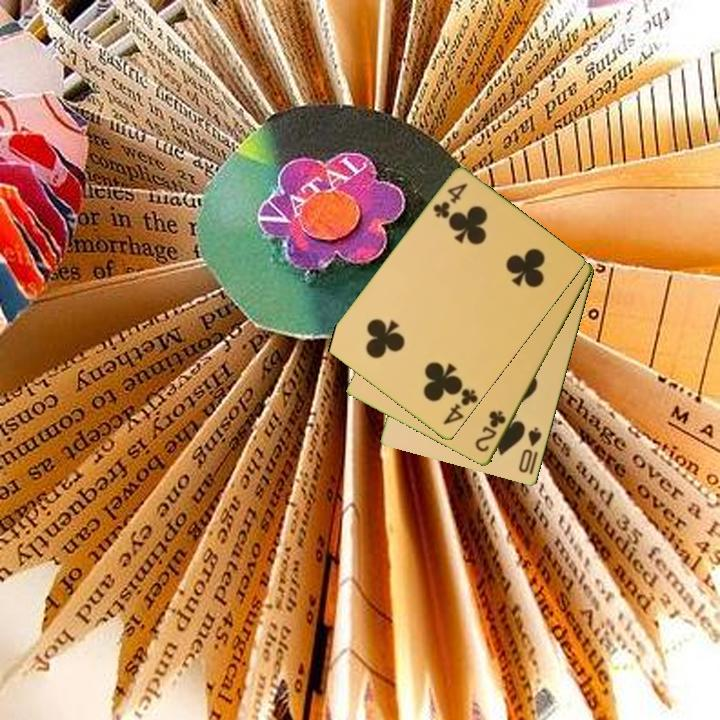10s: (515, 424, 545, 476)
2c: (472, 407, 509, 455)
4c: (439, 385, 481, 428), (429, 180, 470, 222)
